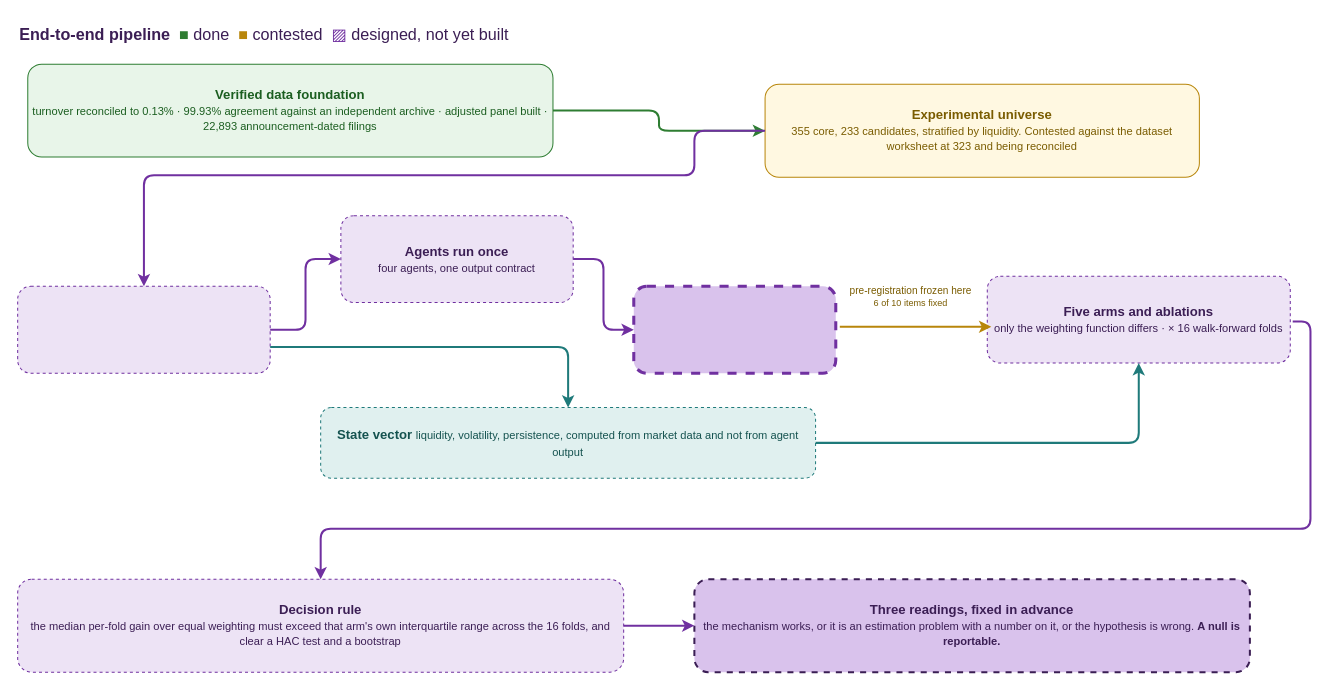
Some shapes in this 1337 by 690 pixel diagram are drawn without their labels. The shapes that lost their labels are listed below. From the top down, each one's centre as x and y in pixels, then its label:
At (143,329): "Point-in-time data layer one as-of cursor, every component queries it".
At (734,329): "Cached outputs byte-identical for every arm".
